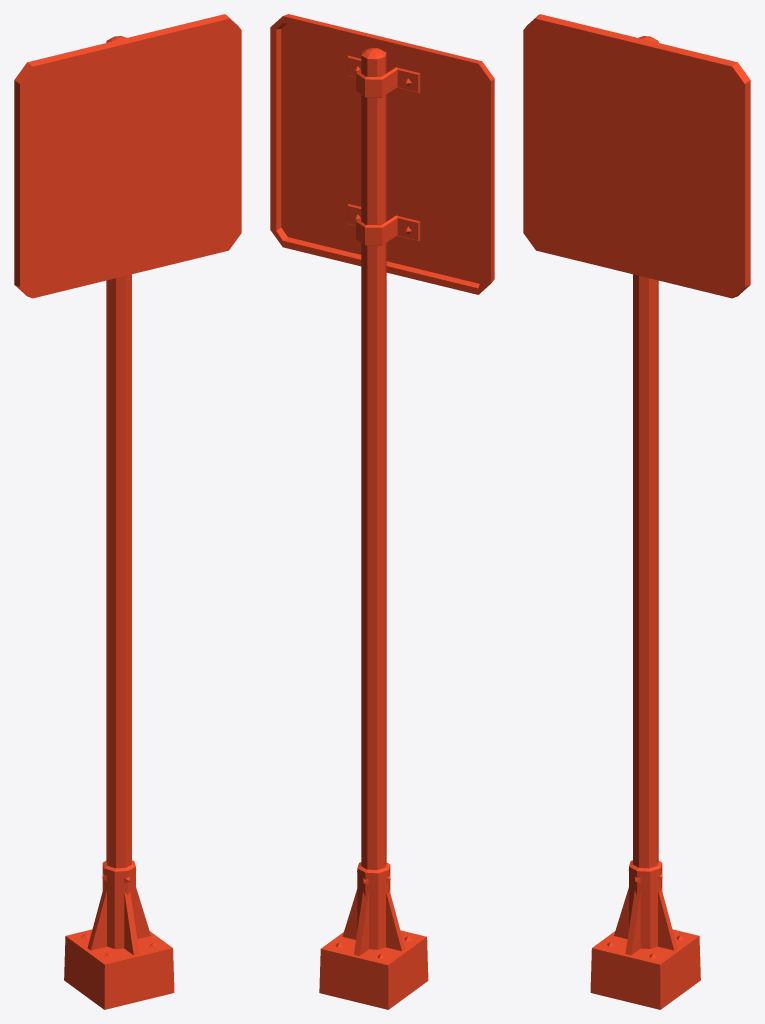
The model's file is SM_Sign_Square_B_City.fbx.
3 renders of one model, left to right at view 1: azimuth 30°, elevation 25°; view 2: azimuth 150°, elevation 25°; view 3: azimuth 330°, elevation 25°, orthographic.
Visible parts, largest first — view 1: SM_Sign_Square_B_City; view 2: SM_Sign_Square_B_City; view 3: SM_Sign_Square_B_City.
Part boxes in pixels (box(x1,y1,x2,y2)): SM_Sign_Square_B_City: box(14, 14, 241, 1009); SM_Sign_Square_B_City: box(270, 14, 494, 1009); SM_Sign_Square_B_City: box(523, 14, 750, 1009).
Bounding box in the file's own units: 0.5876 × 2.39 × 0.1839.
